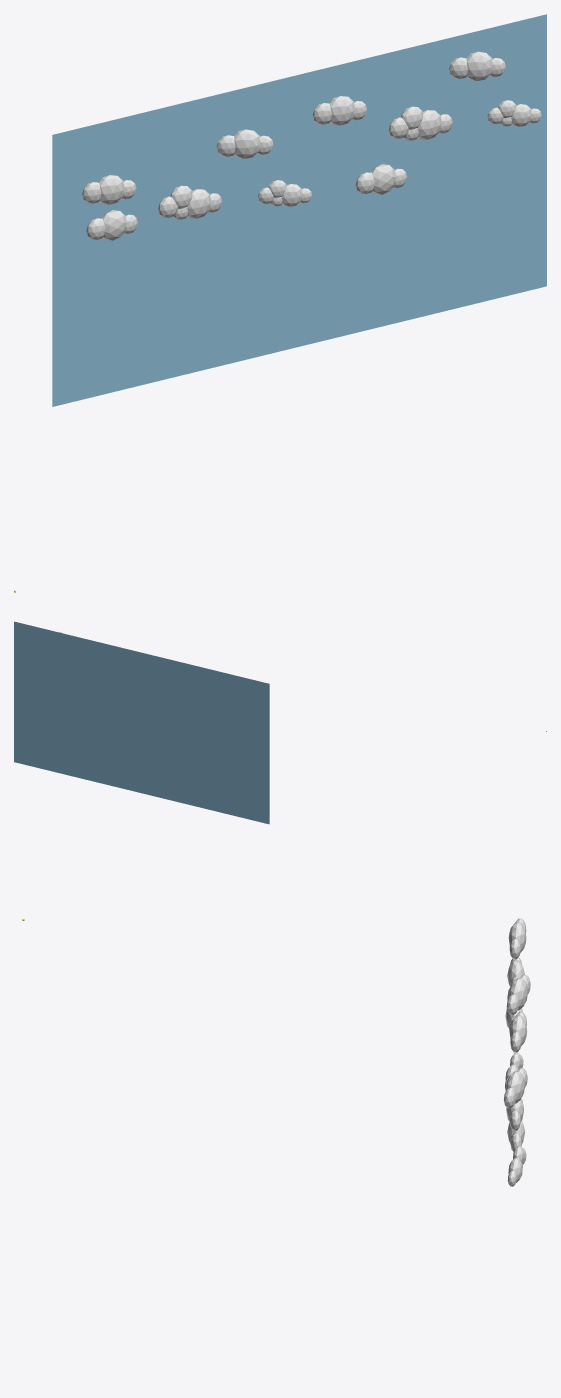
Rendered from fond.fbx.
The picture shows the model from 3 angles, top to bottom: view 1: azimuth 30°, elevation 25°; view 2: azimuth 150°, elevation 25°; view 3: azimuth 270°, elevation 25°; orthographic projection. The views are drawn at different scales.
Parts seen in each view (by area): view 1: Plane; view 2: Plane; view 3: no part large enough to name.
Part boxes in pixels (bbox=[...]): Plane: bbox=[52, 14, 546, 406]; Plane: bbox=[14, 621, 269, 824].
Size of the model in its own units: 9902 by 3293 by 5475.
